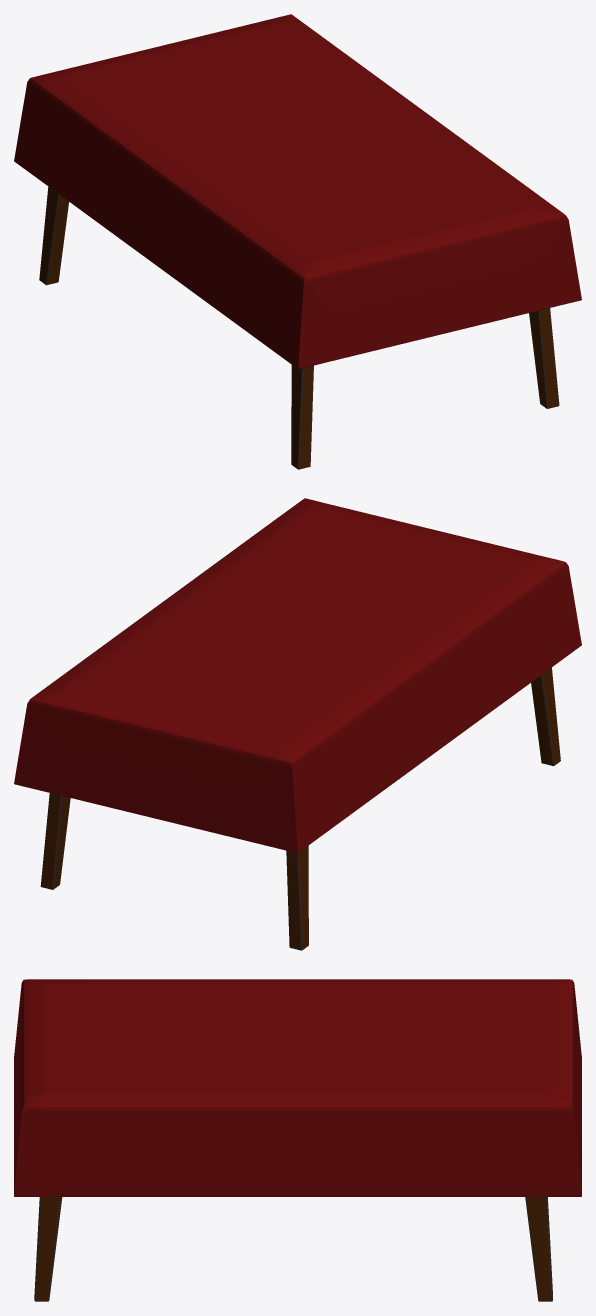
File: Table 1.fbx
3 renders of one model, top to bottom at view 1: azimuth 30°, elevation 25°; view 2: azimuth 150°, elevation 25°; view 3: azimuth 270°, elevation 25°, orthographic.
Visible parts, largest first — view 1: pPlane7, pCube8; view 2: pPlane7, pCube8; view 3: pPlane7, pCube8.
Boxes of the visible parts, x1,y1,x2,y2 form: pPlane7: [14, 14, 581, 369]; pCube8: [39, 186, 559, 469]; pPlane7: [14, 498, 581, 853]; pCube8: [40, 667, 560, 950]; pPlane7: [14, 979, 581, 1196]; pCube8: [34, 1197, 552, 1301].
Size of the model in its own units: 127 by 85.82 by 221.
Materials: 1 (1 with a texture image).
